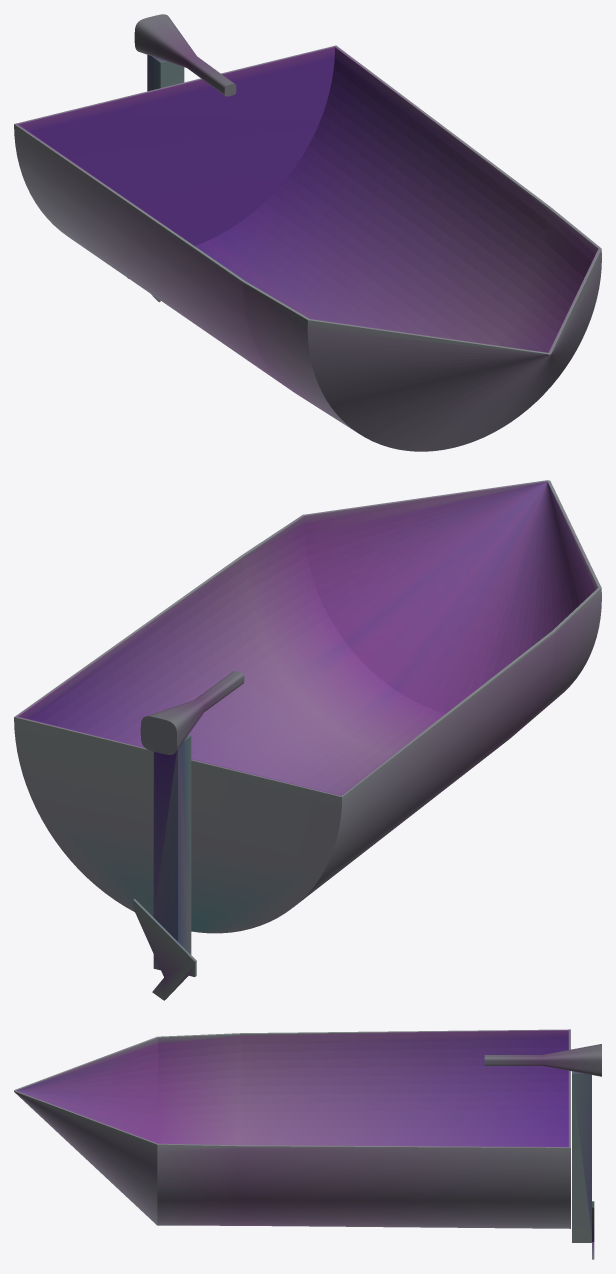
3 renders of one model, top to bottom at view 1: azimuth 30°, elevation 25°; view 2: azimuth 150°, elevation 25°; view 3: azimuth 270°, elevation 25°, orthographic. The views are drawn at different scales.
Visible parts, largest first — view 1: bow, upright; view 2: bow, upright; view 3: bow, upright.
Boxes of the visible parts, bbox=[...] form: bow: bbox=[14, 45, 601, 451]; upright: bbox=[128, 14, 236, 302]; bow: bbox=[14, 480, 601, 933]; upright: bbox=[133, 671, 244, 1000]; bow: bbox=[14, 1029, 570, 1228]; upright: bbox=[484, 1044, 601, 1259].
Bounding box in the file's own units: 2.39 × 1.99 × 5.01.
